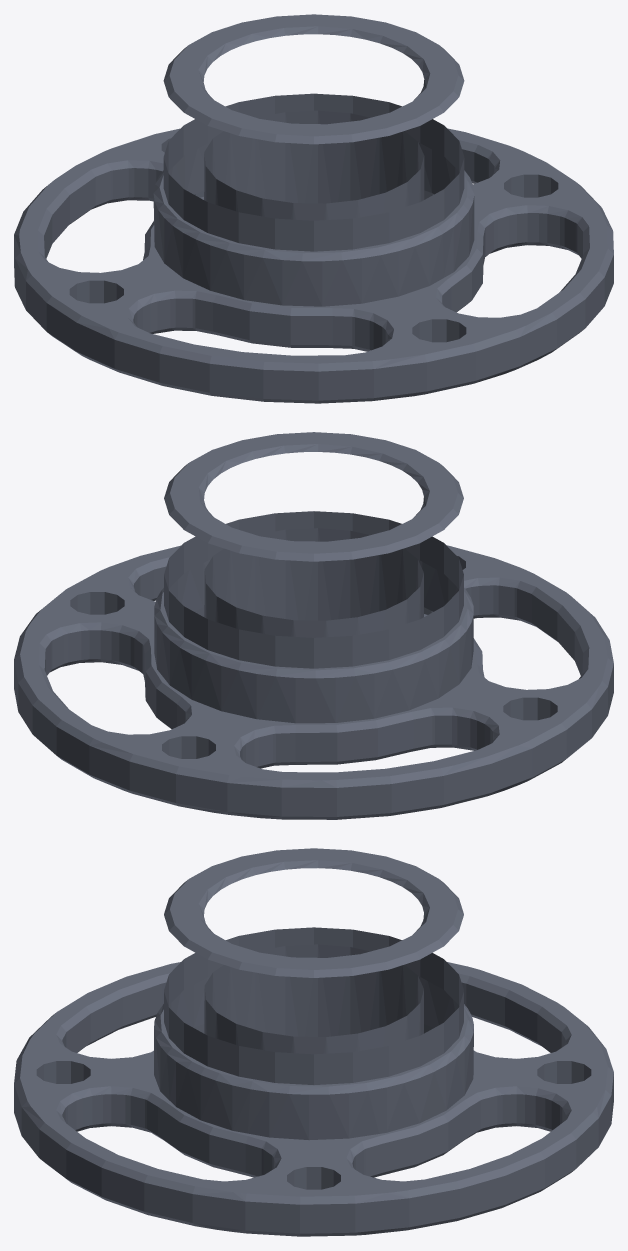
The model's file is solo_upper_leg_right_side_7.obj.
3 renders of one model, top to bottom at view 1: azimuth 30°, elevation 25°; view 2: azimuth 150°, elevation 25°; view 3: azimuth 270°, elevation 25°, orthographic.
Bounding box in the file's own units: 0.03 × 0.0112 × 0.03.
